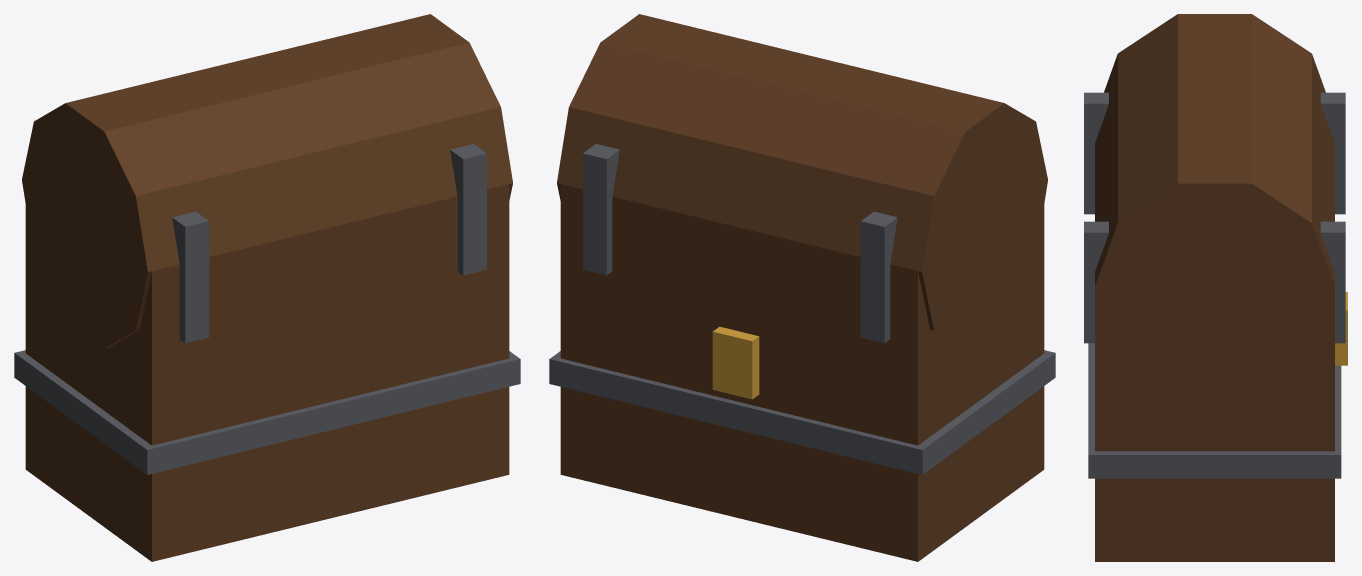
Rendered from chest.glb.
3 renders of one model, left to right at view 1: azimuth 30°, elevation 25°; view 2: azimuth 150°, elevation 25°; view 3: azimuth 270°, elevation 25°, orthographic. The views are drawn at different scales.
Parts seen in each view (by area): view 1: lid, base; view 2: lid, base; view 3: lid, base.
Part boxes in pixels (x1=…): lid: x1=22, y1=14, x2=512, y2=353; base: x1=14, y1=262, x2=520, y2=561; lid: x1=557, y1=14, x2=1047, y2=353; base: x1=549, y1=262, x2=1055, y2=561; lid: x1=1084, y1=14, x2=1345, y2=390; base: x1=1088, y1=292, x2=1347, y2=561.
Size of the model in its own units: 0.94 by 0.9615 by 0.605.
